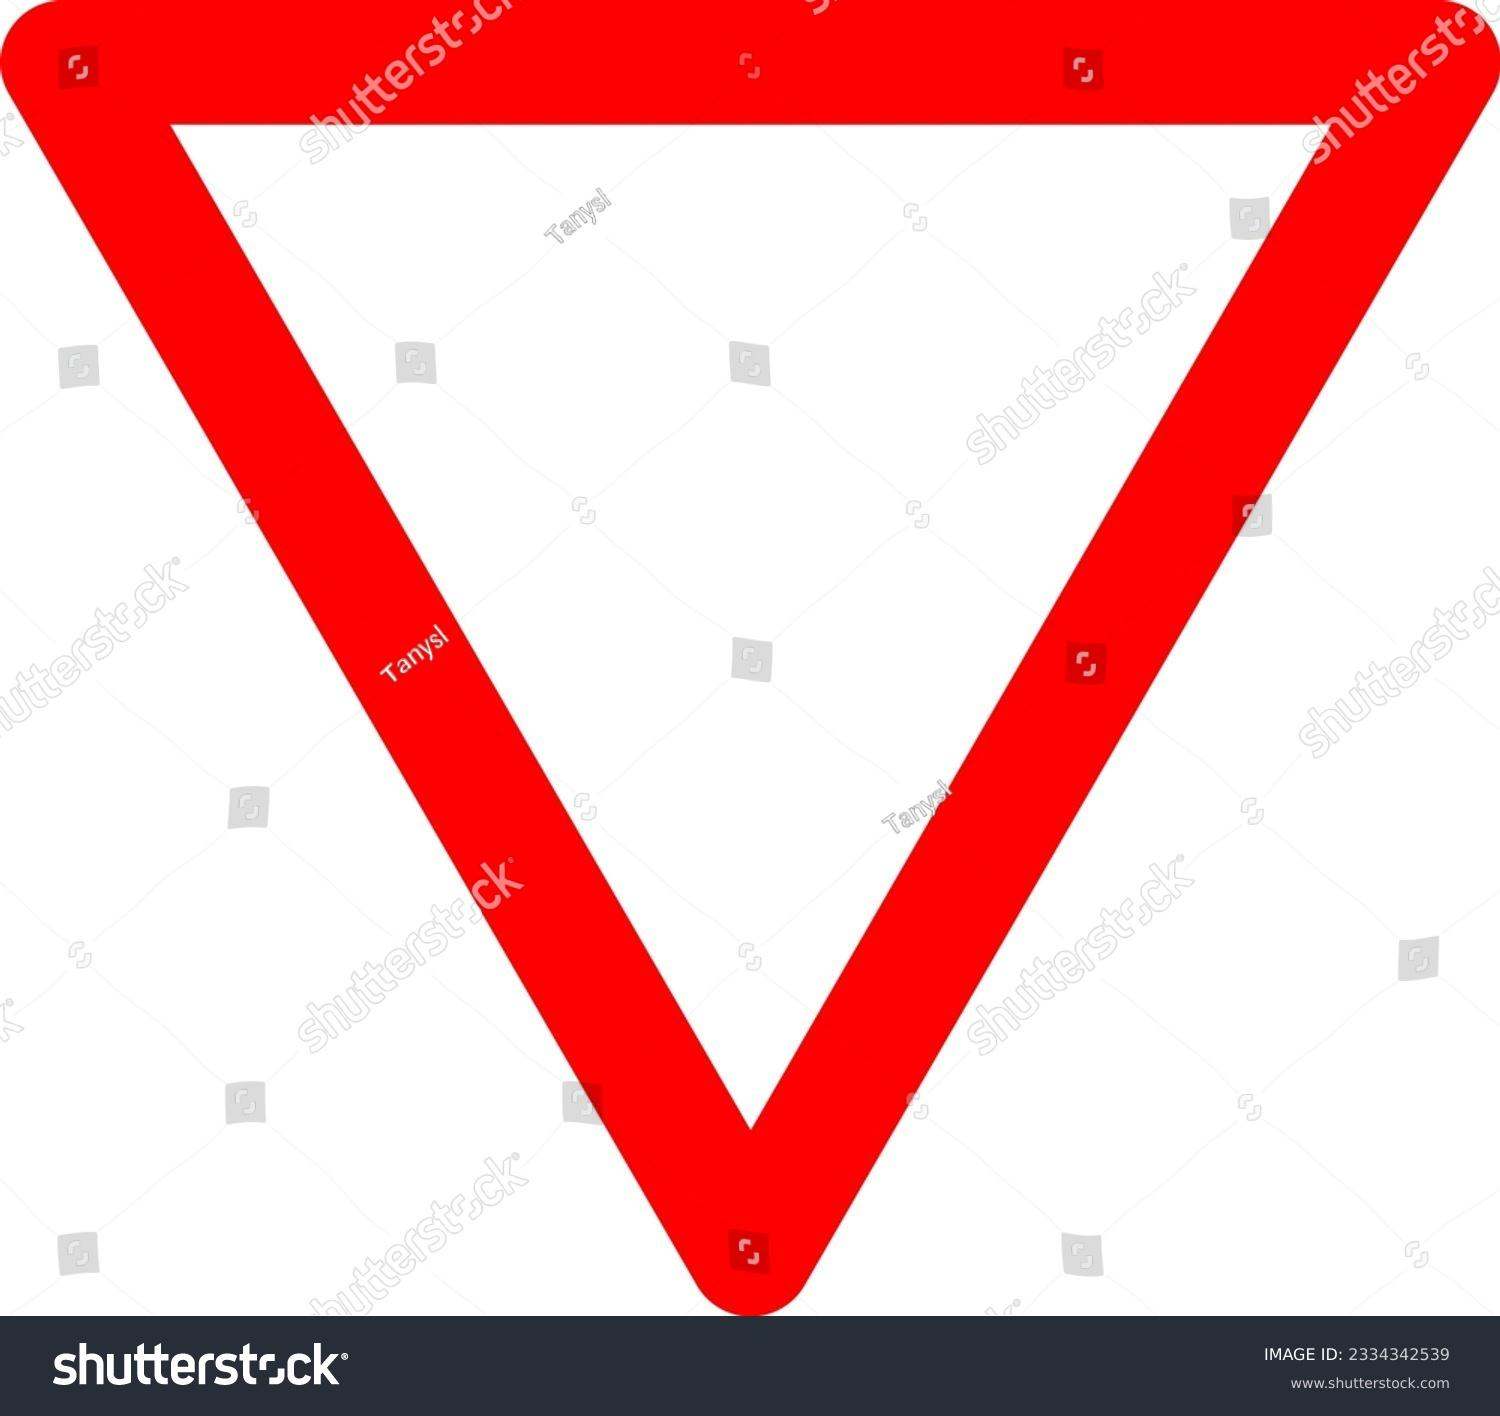Give Way: (24, 0, 1500, 1286)
